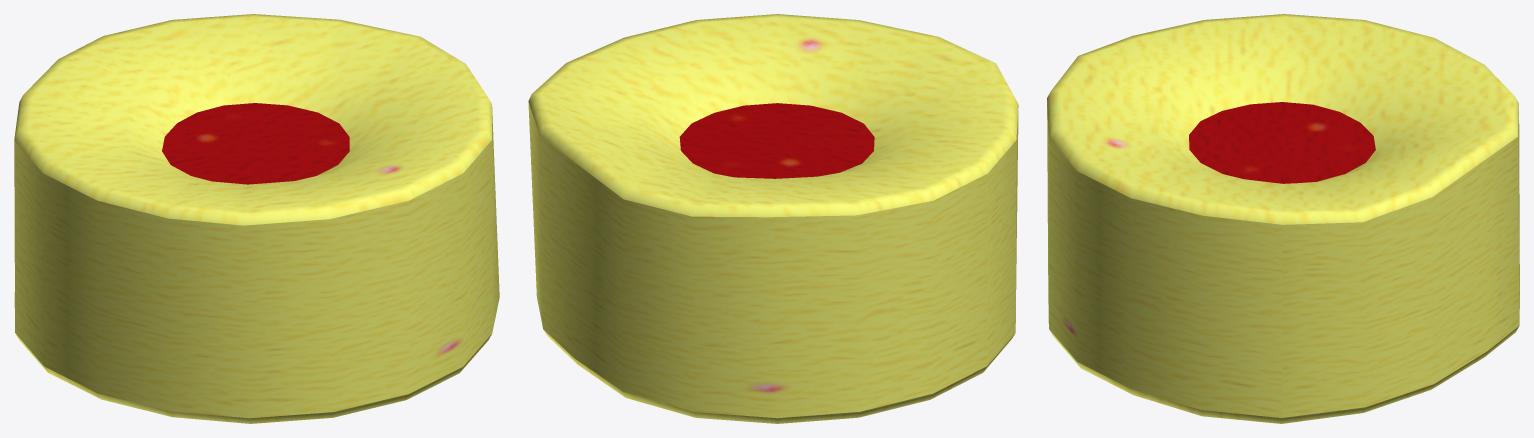
3 renders of one model, left to right at view 1: azimuth 30°, elevation 25°; view 2: azimuth 150°, elevation 25°; view 3: azimuth 270°, elevation 25°, orthographic.
Visible parts, largest first — view 1: YellowRound; view 2: YellowRound; view 3: YellowRound.
Part boxes in pixels (left/top/right/bottom): YellowRound: left=14, top=14, right=499, bottom=423; YellowRound: left=528, top=14, right=1018, bottom=423; YellowRound: left=1047, top=14, right=1519, bottom=423.
Bounding box in the file's own units: 181 × 87.27 × 175.
